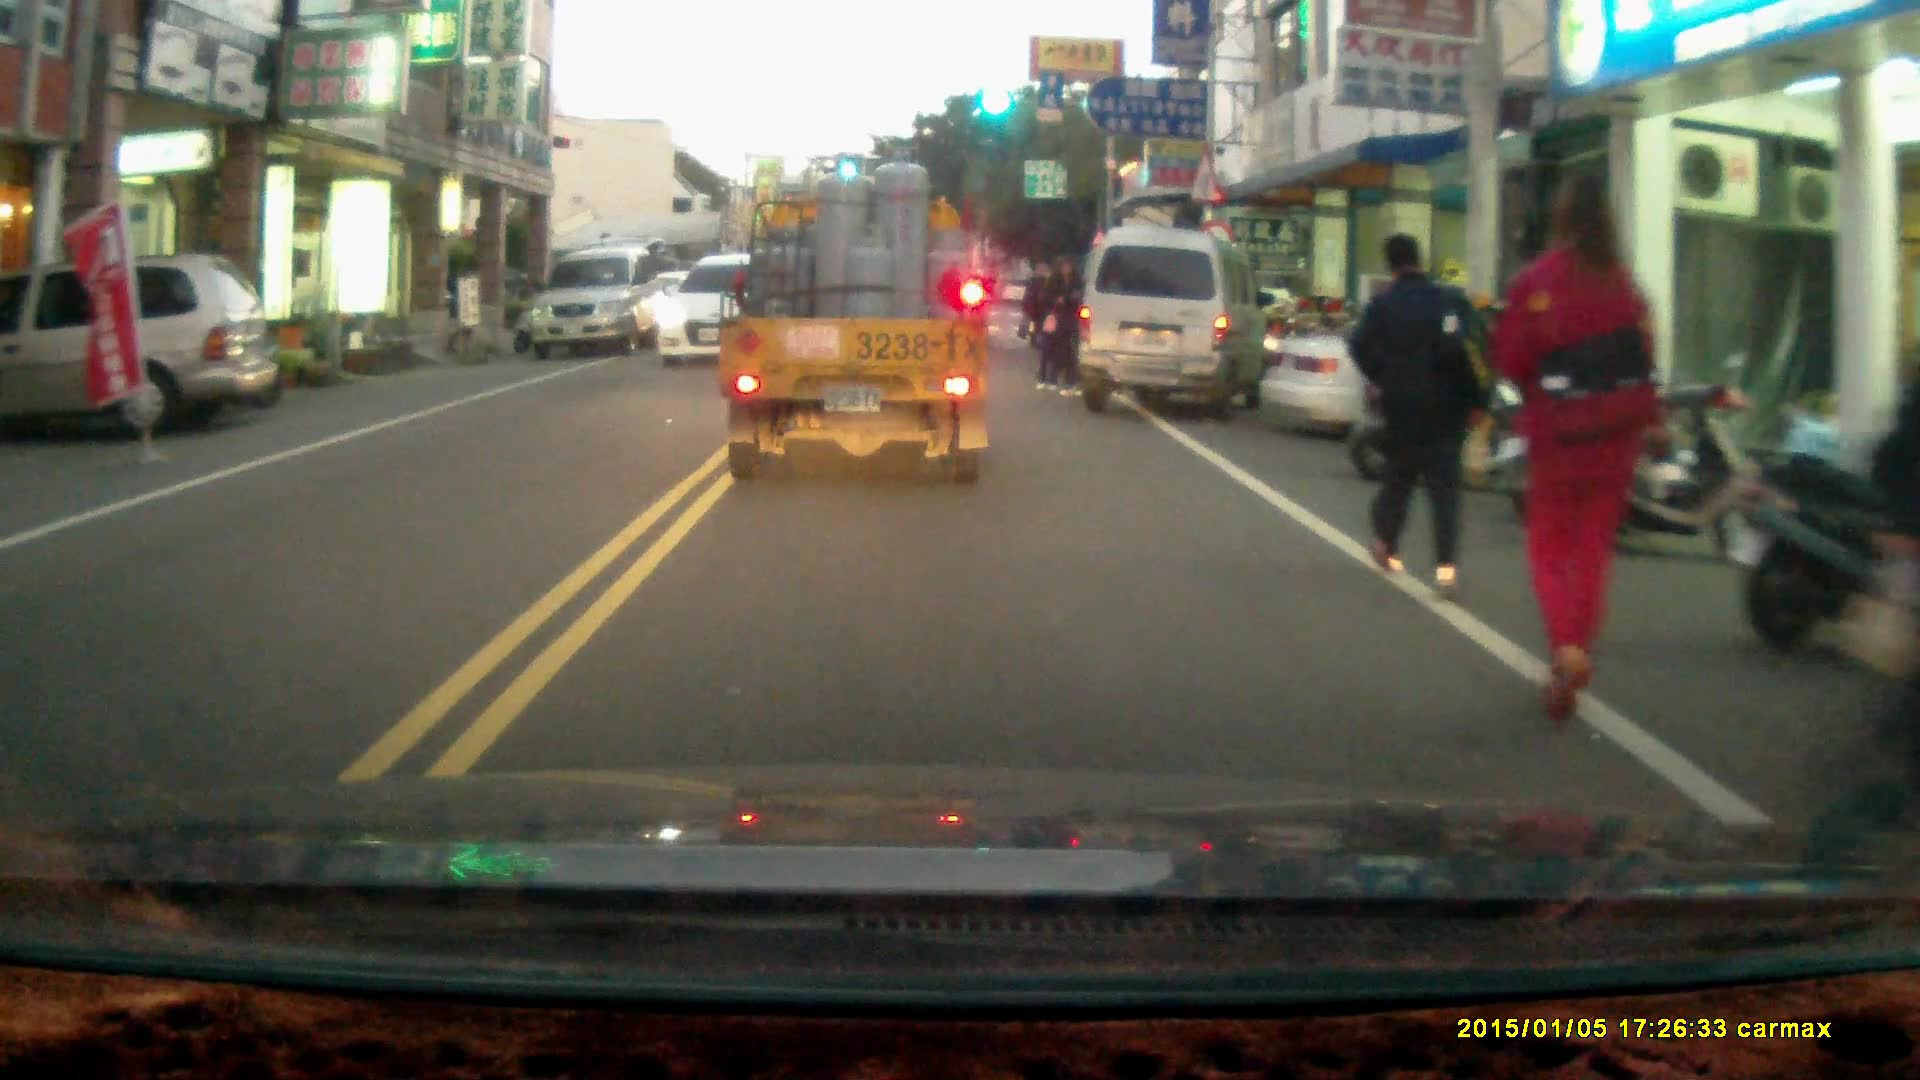pedestrian: (1491, 165, 1665, 735), (1341, 227, 1480, 597), (1040, 257, 1080, 398)
vehicle: (719, 175, 995, 499), (1267, 299, 1678, 461), (1, 253, 286, 440), (1079, 221, 1272, 415), (522, 246, 669, 357), (648, 248, 781, 366)
